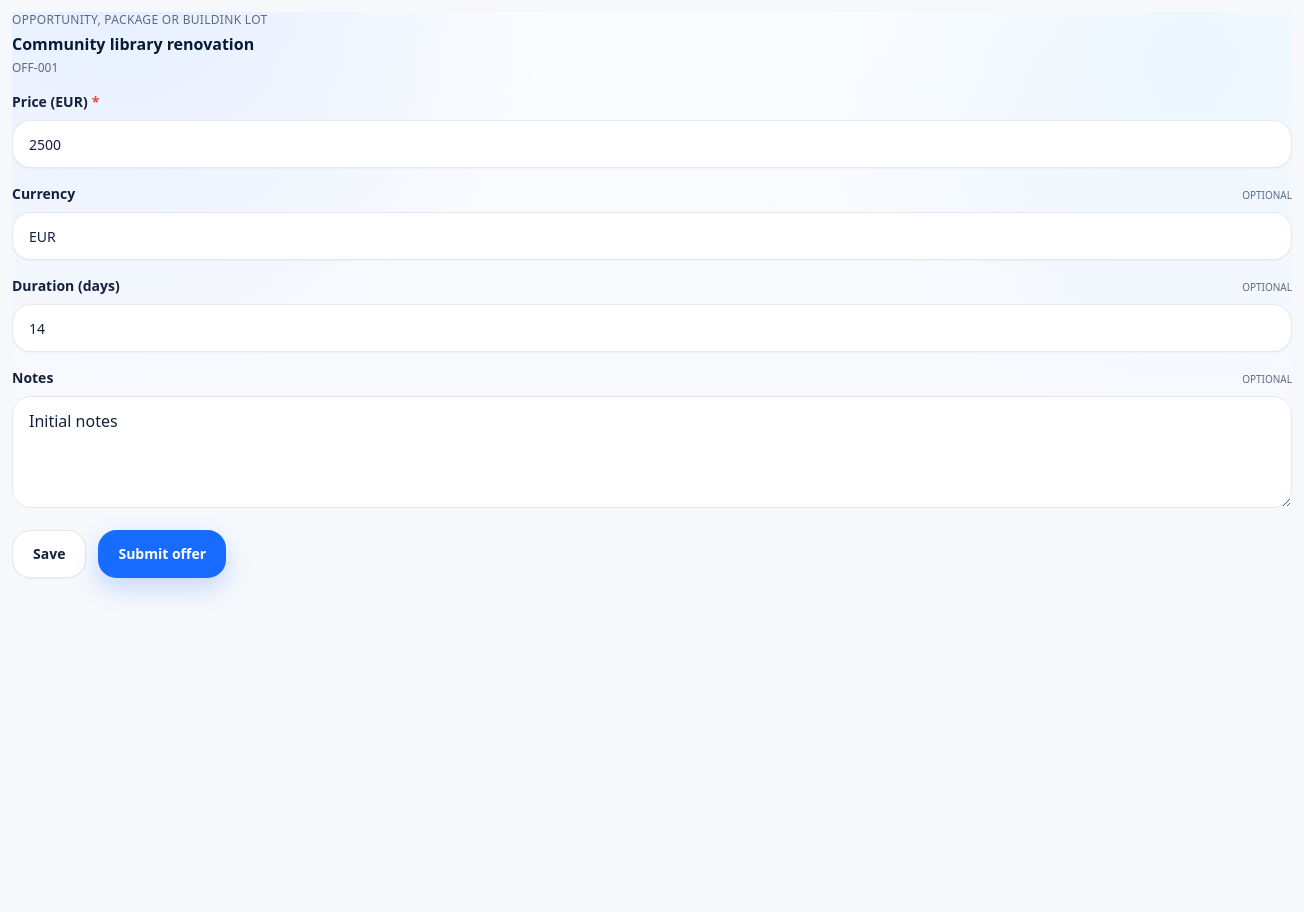
Scenario: OfferDraftEditForm › shows the backend draft-save failure instead of silently failing
Click the button "Save": [49, 554] box [12, 530, 86, 578]
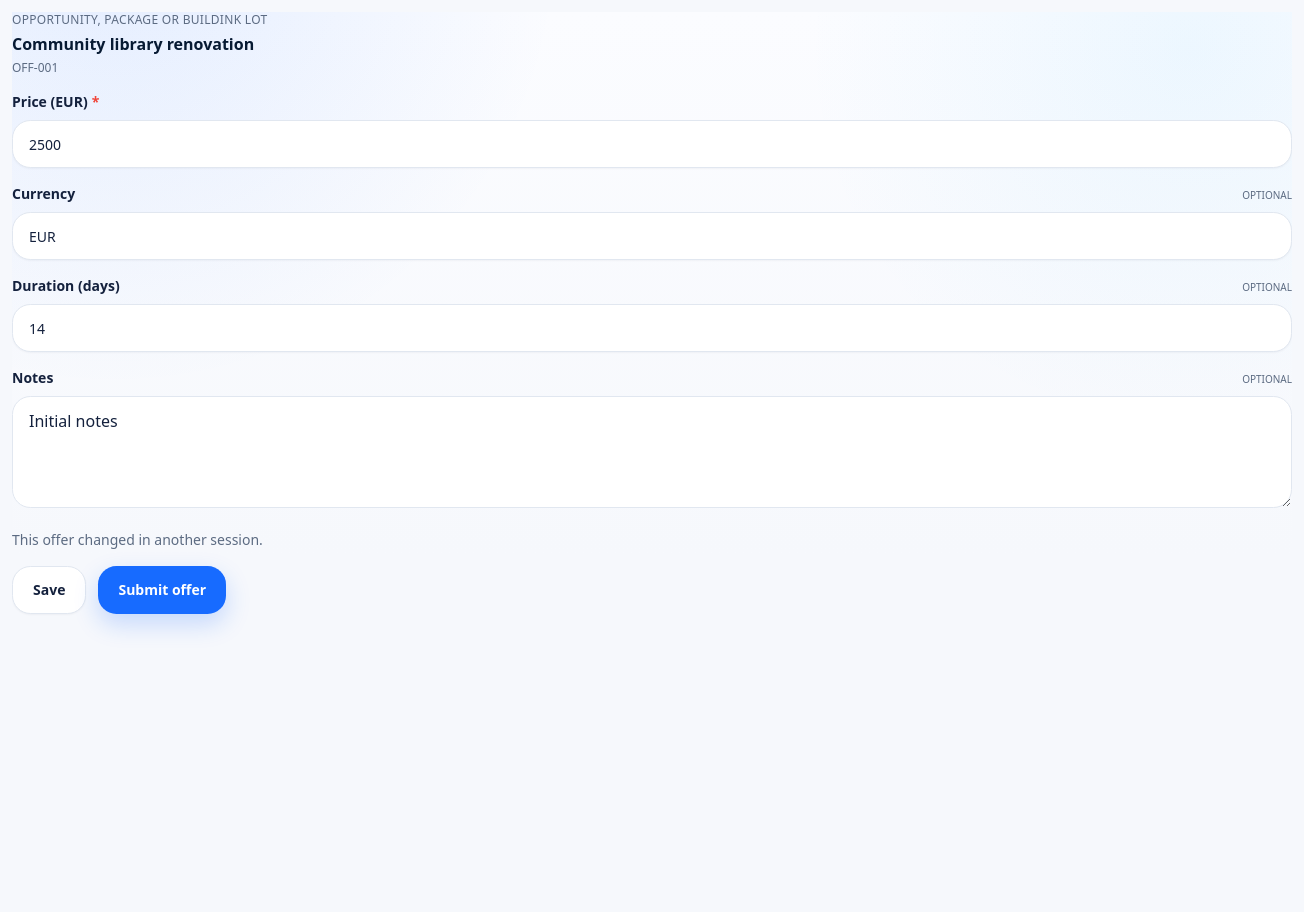
Expected: the text "This offer changed in another session." is shown, [12, 530, 263, 549]
